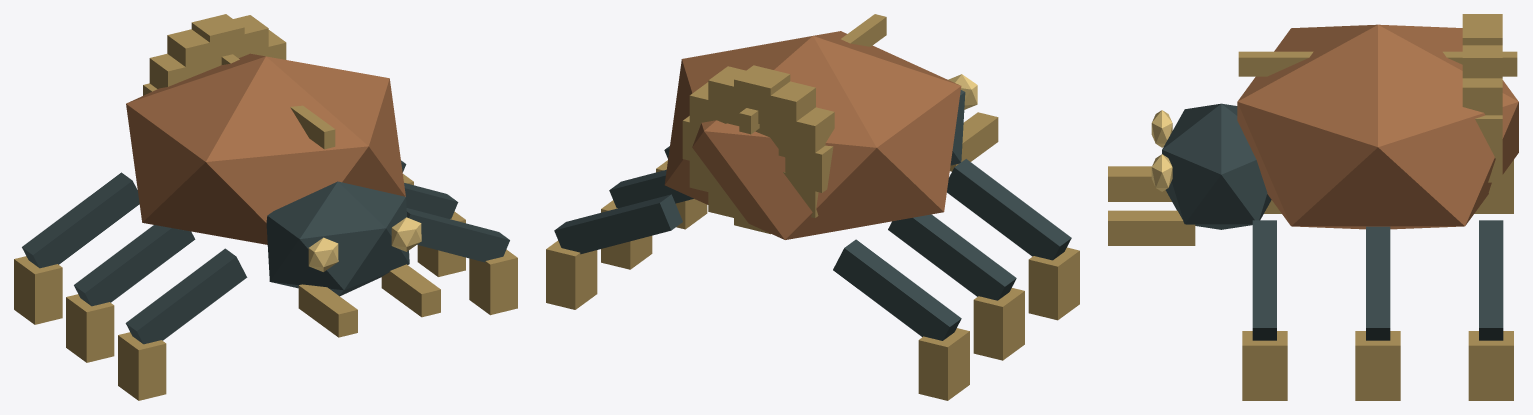
Rendered from works_beetle.glb.
The picture shows the model from 3 angles, left to right: view 1: azimuth 30°, elevation 25°; view 2: azimuth 150°, elevation 25°; view 3: azimuth 270°, elevation 25°; orthographic projection. The views are drawn at different scales.
Visible parts, largest first — view 1: shell, head, leg_-1_0, leg_-1_2, leg_-1_1, leg_1_0, foot.002, foot, foot.001, foot.003, mandible, mandible.001 (+10 smaller); view 2: shell, leg_-1_2, leg_-1_0, leg_-1_1, leg_1_2, foot, foot.001, foot.002, foot.005, gear_back_tooth.005, gear_back_tooth.004, gear_back_tooth.003 (+14 smaller); view 3: shell, head, leg_1_0, leg_1_2, foot.003, foot.004, foot.005, mandible.001, leg_1_1, shell_seam, mandible, gear_back_tooth.001 (+6 smaller).
Boxes of the visible parts, x1,y1,x2,y2 form: shell: (126,53,405,244); head: (266,181,409,296); leg_-1_0: (125,248,247,344); leg_-1_2: (22,172,139,268); leg_-1_1: (74,225,195,306); leg_1_0: (406,208,509,262); foot.002: (14,256,62,324); foot: (118,332,166,400); foot.001: (66,294,114,362); foot.003: (469,249,517,315); mandible: (298,284,357,337); mandible.001: (381,264,440,317); shell: (664,31,961,239); leg_-1_2: (833,239,961,340); leg_-1_0: (947,159,1071,260); leg_-1_1: (888,214,1016,300); leg_1_2: (554,194,682,254); foot: (1028,247,1079,320); foot.001: (973,288,1024,360); foot.002: (918,328,969,400); foot.005: (546,240,597,309); gear_back_tooth.005: (778,107,834,164); gear_back_tooth.004: (759,81,815,139); gear_back_tooth.003: (734,65,790,126); shell: (1237,24,1518,229); head: (1162,103,1271,229); leg_1_0: (1252,220,1276,340); leg_1_2: (1479,220,1503,340); foot.003: (1242,331,1287,400); foot.004: (1355,331,1400,400); foot.005: (1468,331,1513,400); mandible.001: (1108,210,1195,245); leg_1_1: (1366,226,1390,340); shell_seam: (1238,51,1517,76); mandible: (1108,166,1171,201); gear_back_tooth.001: (1462,78,1502,115).
Size of the model in its own units: 2.74 by 1.74 by 2.36.
